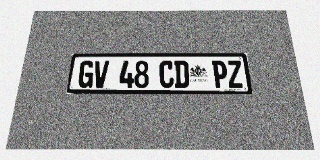4: (119, 61, 135, 88)
8: (134, 61, 149, 88)
C: (159, 61, 174, 88)
D: (174, 61, 189, 88)
G: (77, 61, 95, 88)
P: (212, 61, 228, 88)
V: (92, 61, 109, 88)
Z: (226, 61, 244, 88)
